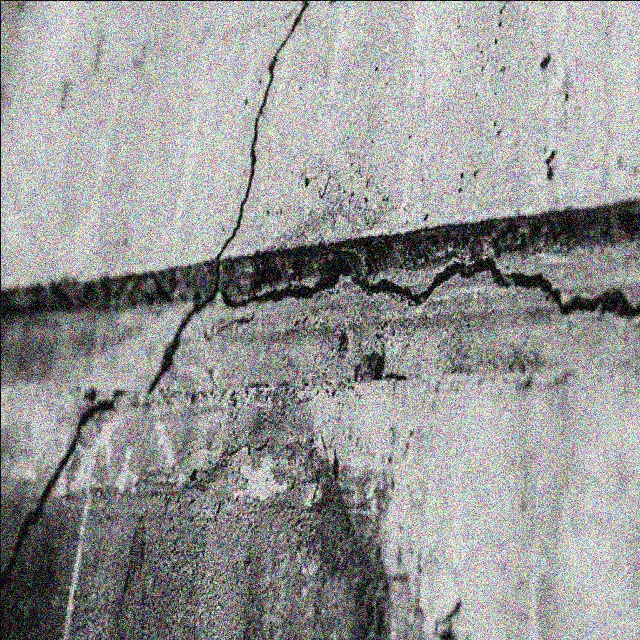SurfaceCrack: (1, 187, 640, 473), (1, 268, 251, 635)
